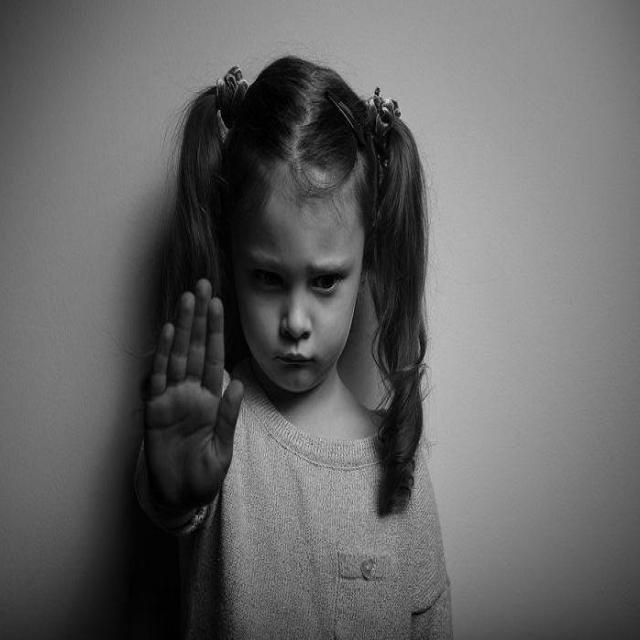stop: (138, 270, 248, 515)
